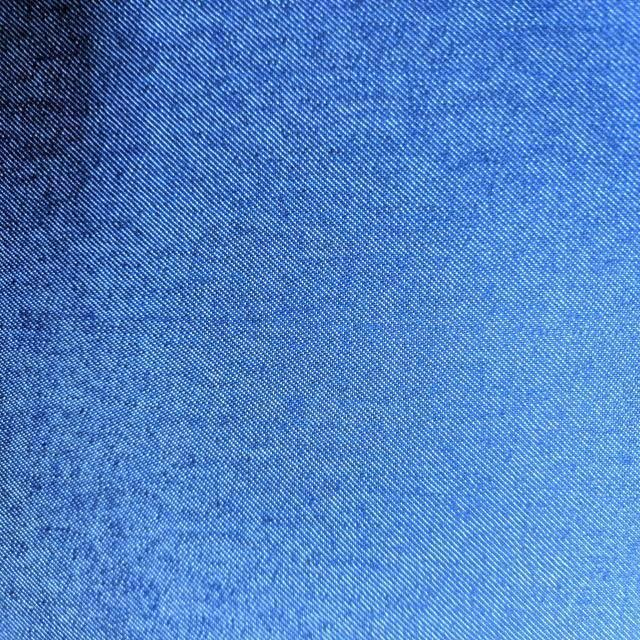Line: (34, 306, 533, 336)
